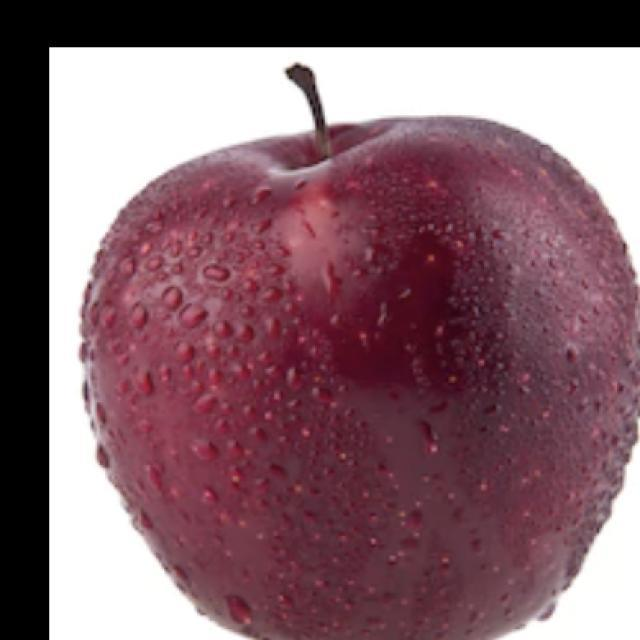Apple: (78, 62, 639, 639)
